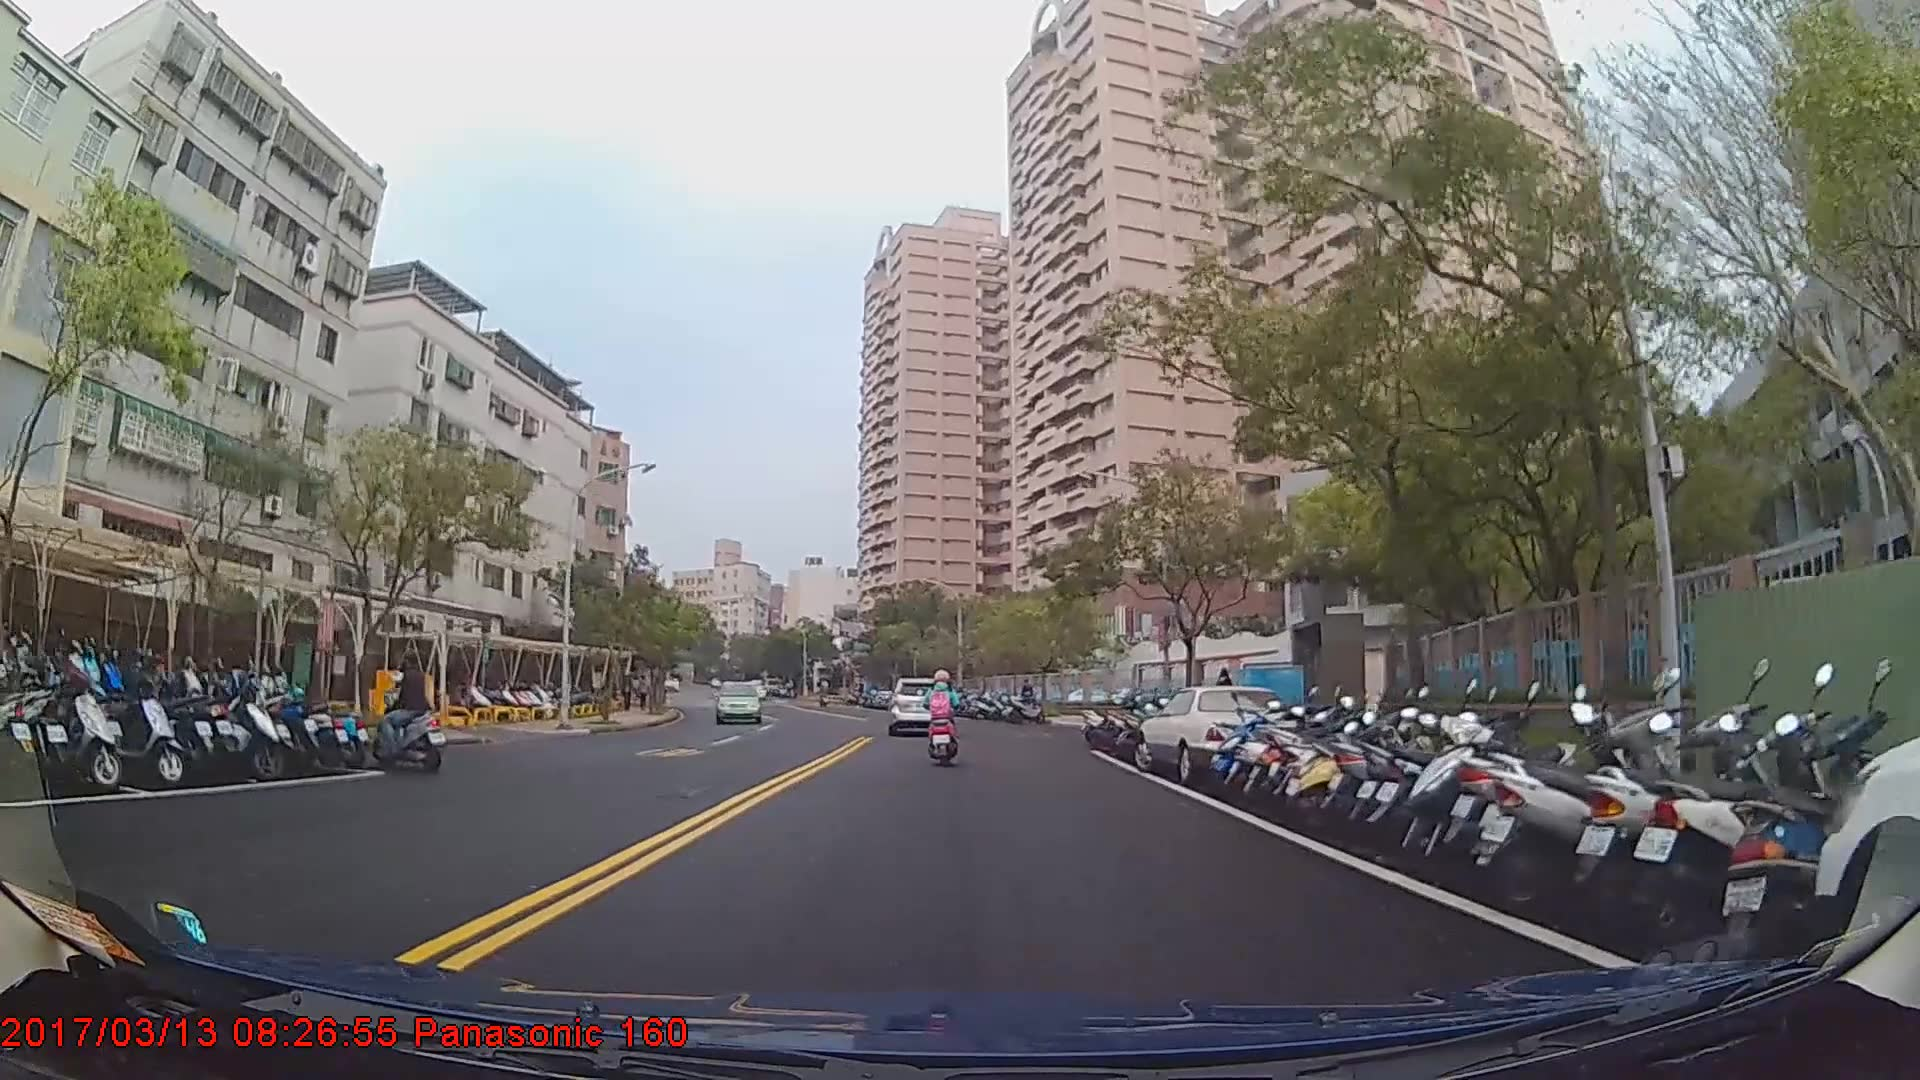pedestrian: (1217, 666, 1239, 726)
rider: (372, 648, 437, 766), (923, 668, 964, 768)
vehicle: (1134, 683, 1298, 783), (883, 675, 948, 733), (713, 679, 764, 725)
